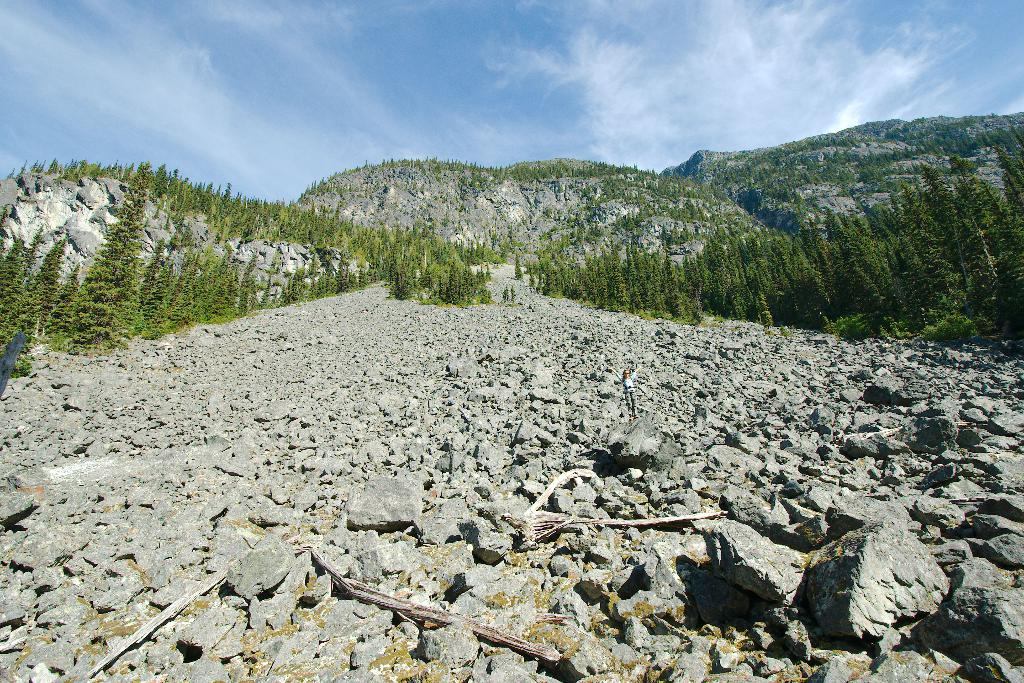Tree: (513, 120, 1023, 339), (146, 151, 510, 342), (50, 158, 145, 367)
